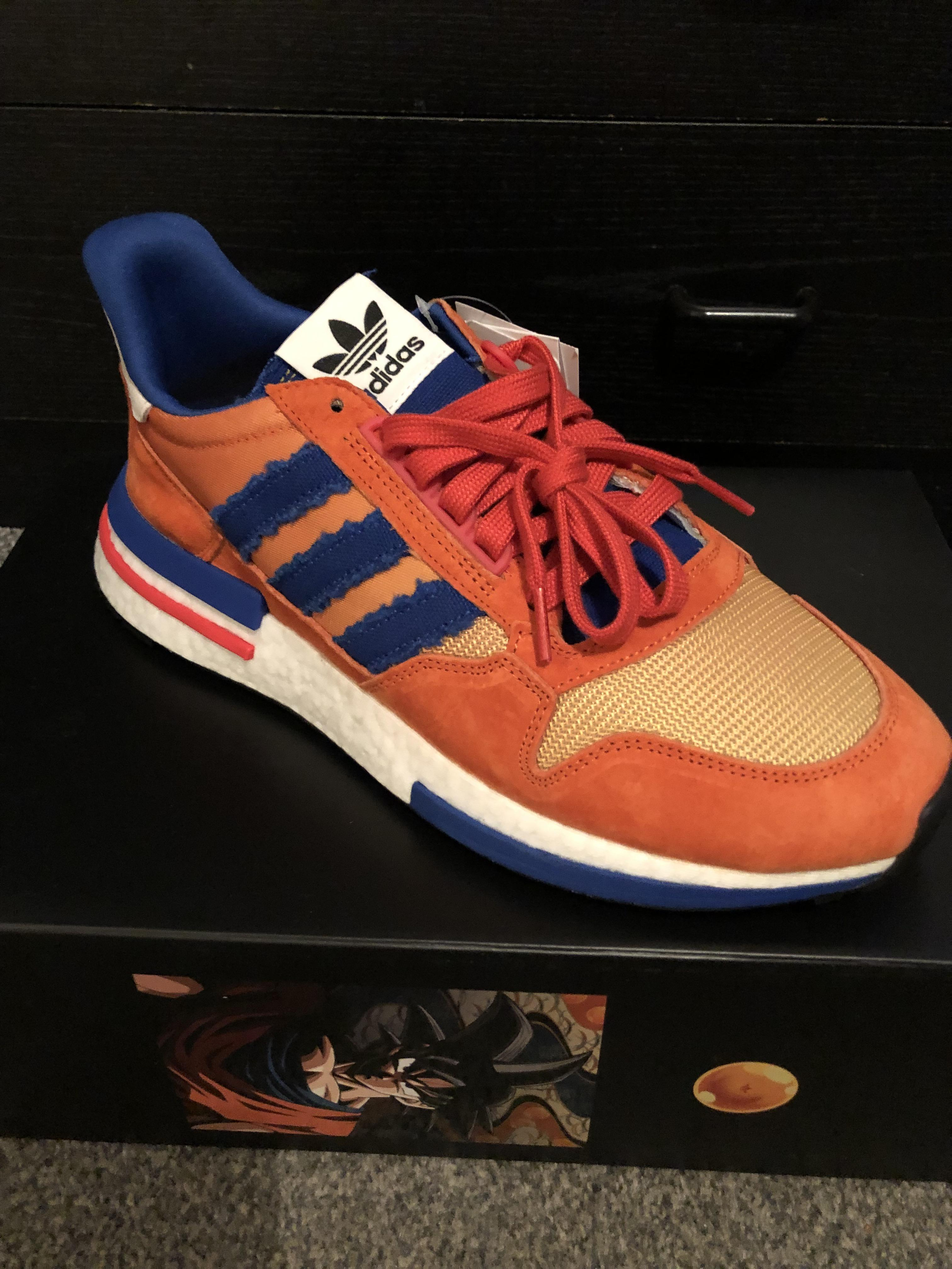sneaker: (86, 208, 949, 903)
